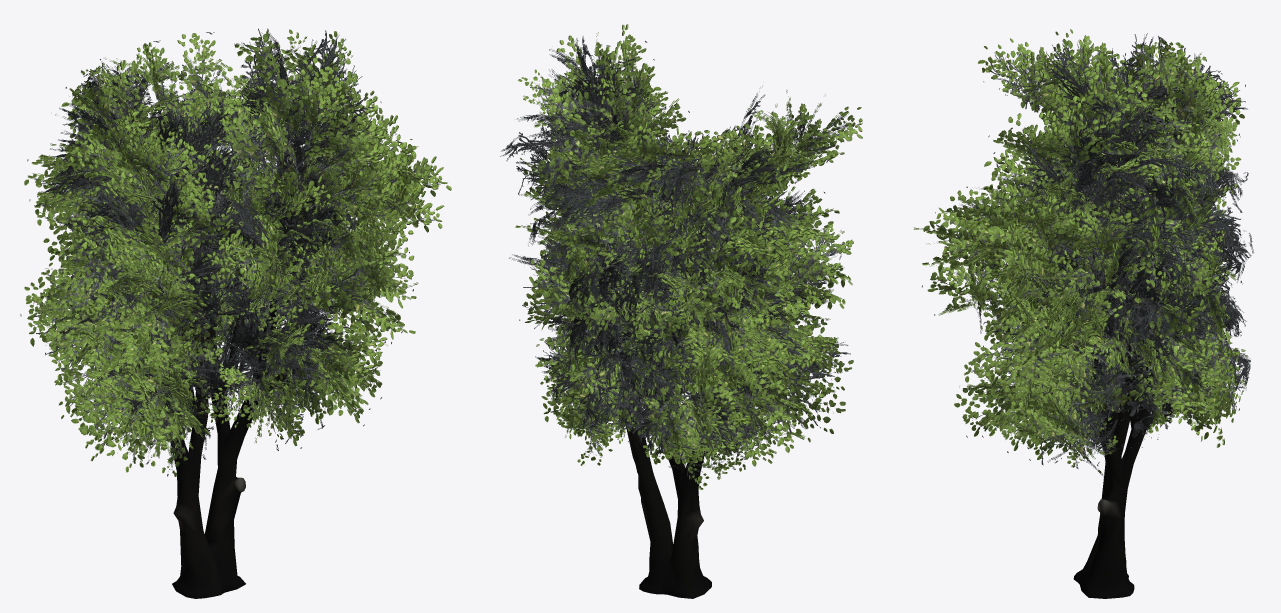
The model's file is TREe2fbx.fbx.
3 renders of one model, left to right at view 1: azimuth 30°, elevation 25°; view 2: azimuth 150°, elevation 25°; view 3: azimuth 270°, elevation 25°, orthographic. The views are drawn at different scales.
Visible parts, largest first — view 1: Plane.036; view 2: Plane.036; view 3: Plane.036.
Boxes of the visible parts, x1=… form: Plane.036: x1=20, y1=28, x2=451, y2=598; Plane.036: x1=500, y1=24, x2=862, y2=598; Plane.036: x1=913, y1=29, x2=1253, y2=598.
Bounding box in the file's own units: 1979 × 2724 × 1650.
